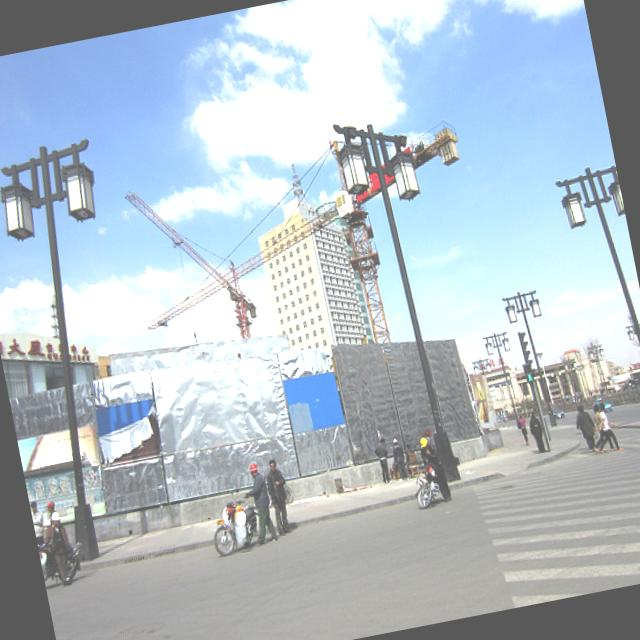Vehicle: (34, 520, 89, 589), (207, 496, 263, 556), (410, 454, 450, 510)
